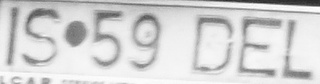5: (85, 6, 124, 73)
9: (128, 7, 163, 77)
D: (186, 9, 234, 79)
E: (237, 11, 280, 80)
I: (1, 4, 27, 69)
L: (281, 15, 317, 84)
S: (23, 5, 61, 68)
